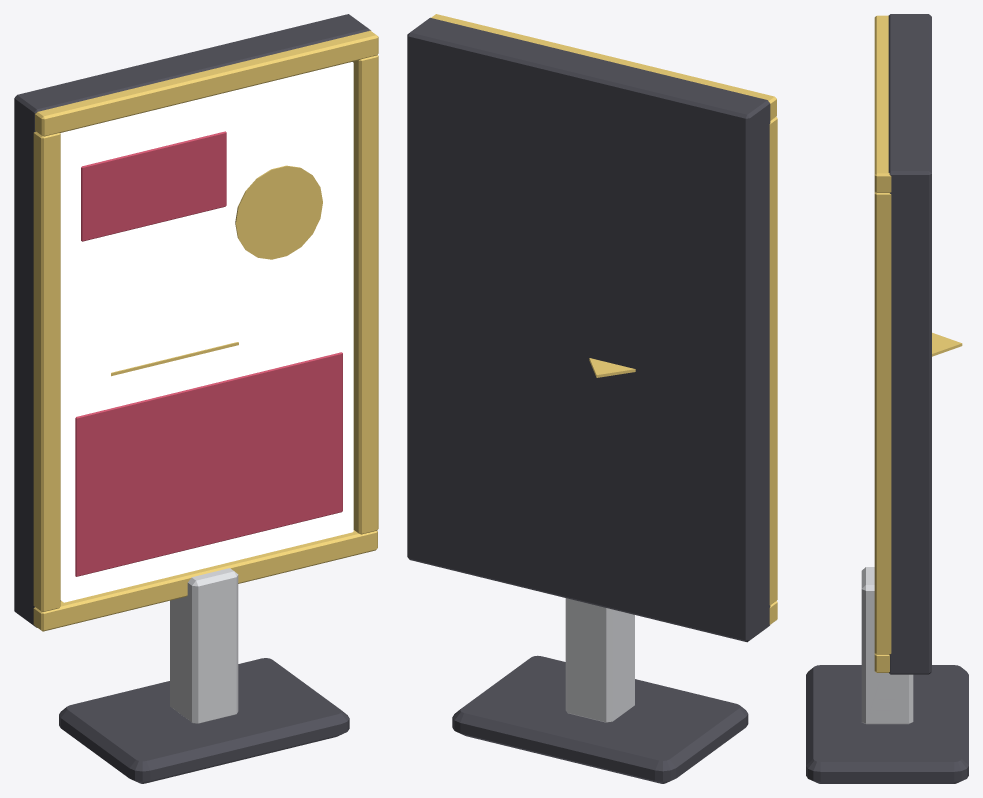
File: cinema-multiplex-and-foyer-poster-light-box-stand-fae33718__34680.glb
3 renders of one model, left to right at view 1: azimuth 30°, elevation 25°; view 2: azimuth 150°, elevation 25°; view 3: azimuth 270°, elevation 25°, orthographic. The views are drawn at different scales.
Parts seen in each view (by area): view 1: poster-light-box-stand; view 2: poster-light-box-stand; view 3: poster-light-box-stand.
Part boxes in pixels (x1=…): poster-light-box-stand: x1=14, y1=14, x2=378, y2=783; poster-light-box-stand: x1=407, y1=14, x2=777, y2=783; poster-light-box-stand: x1=806, y1=14, x2=968, y2=783.
Bounding box in the file's own units: 1.02 × 1.92 × 0.4399.
